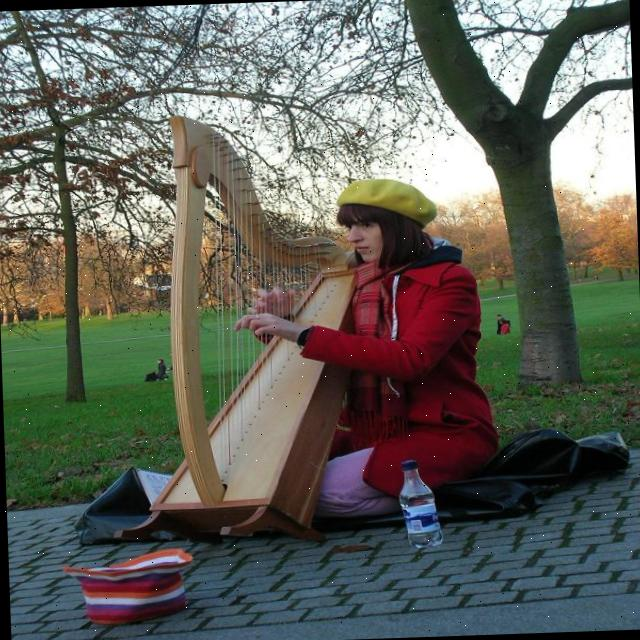harp: (139, 107, 366, 550)
